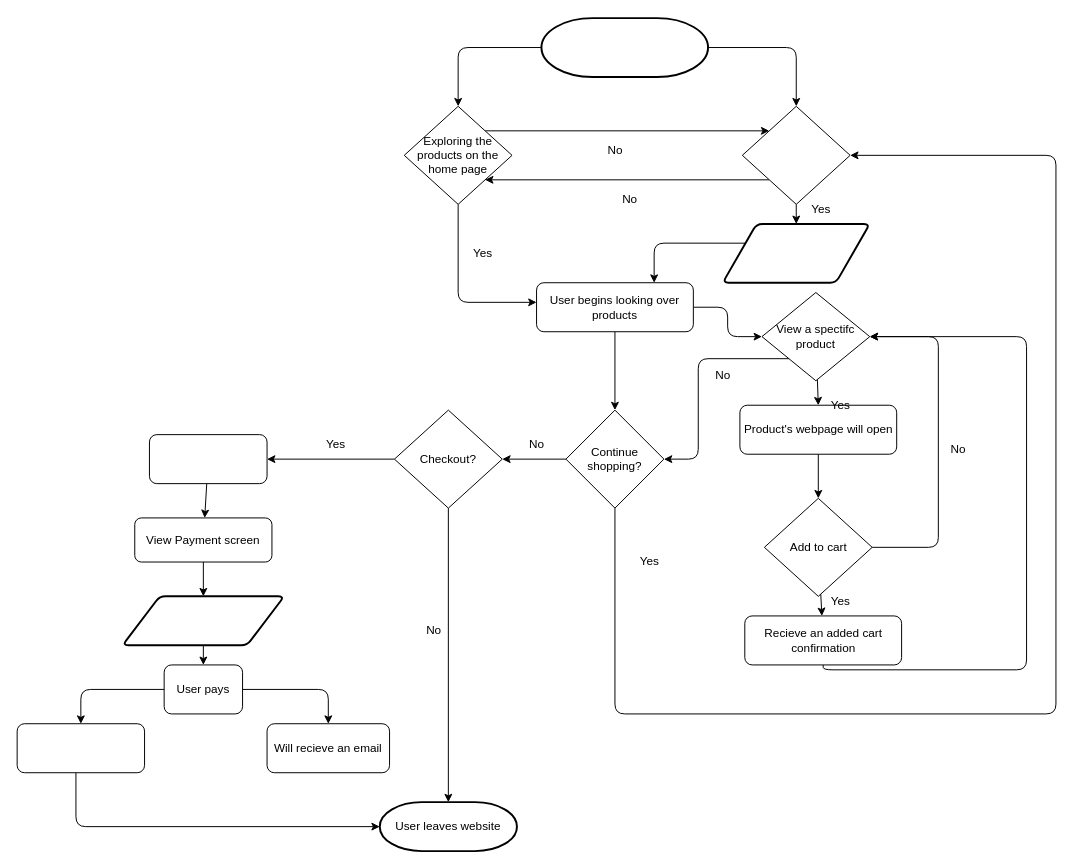
Some shapes in this 1081 by 868 pixel diagram are drawn without their labels. The shapes that lost their labels are listed below. From the top down, each one's centre as x and y in pixels, then its label:
At point 624,47: "User enters website".
At point 795,154: "Searching a product".
At point 795,252: "User inputs their search to website".
At point 207,459: "View Cart screen".
At point 203,620: "User inputs their payment information".
At point 80,748: "Order confirmation screen".
